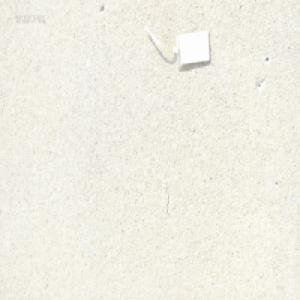LuggageTag: (139, 24, 212, 69)
